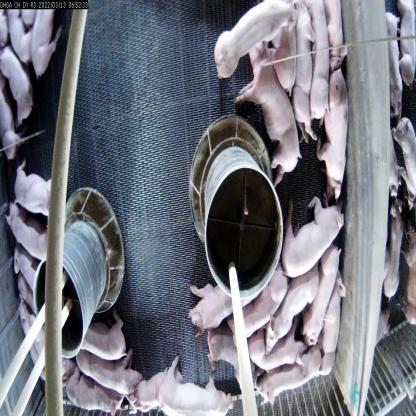Pig: (212, 0, 292, 75), (247, 56, 301, 155), (281, 192, 343, 276), (73, 346, 144, 411), (272, 271, 322, 357), (304, 238, 342, 349), (317, 68, 351, 192), (257, 357, 327, 415), (238, 268, 286, 351), (164, 360, 231, 415), (0, 200, 55, 264), (291, 1, 315, 141), (306, 0, 330, 136), (249, 326, 306, 379), (74, 316, 140, 360), (320, 275, 347, 379), (29, 11, 68, 83), (0, 50, 36, 127), (185, 267, 227, 333), (12, 164, 61, 218), (132, 359, 178, 415), (212, 327, 249, 388), (0, 82, 17, 153)
